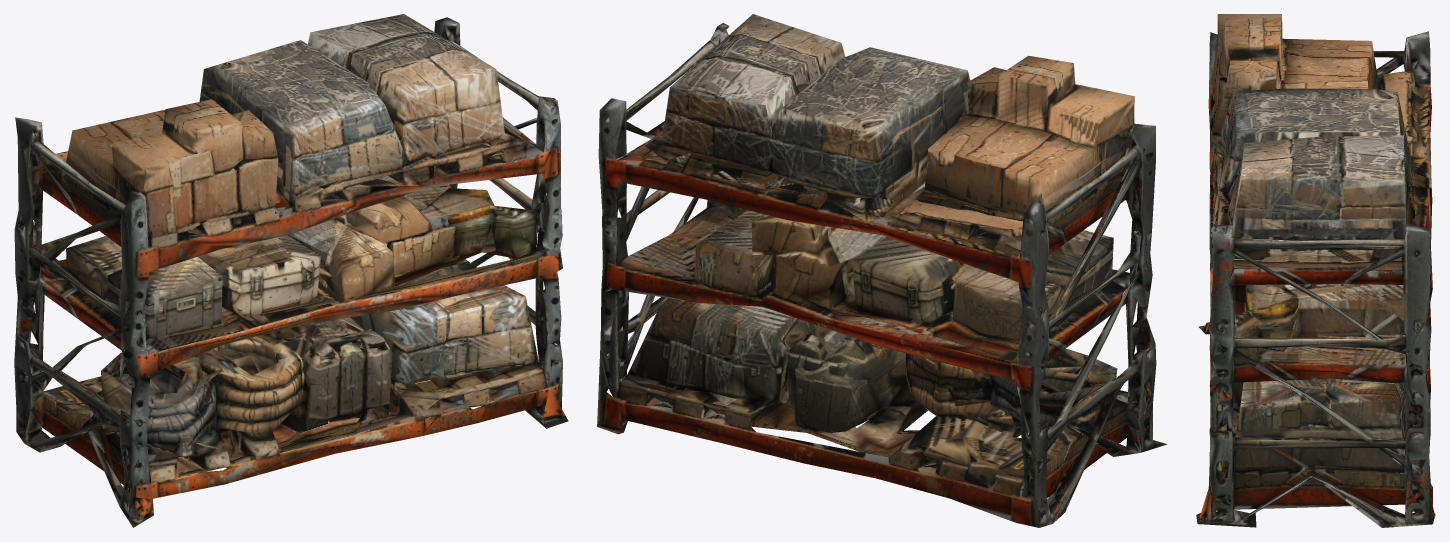
The model's file is EX_Lab_StorageRack.fbx.
3 renders of one model, left to right at view 1: azimuth 30°, elevation 25°; view 2: azimuth 150°, elevation 25°; view 3: azimuth 270°, elevation 25°, orthographic. The views are drawn at different scales.
Visible parts, largest first — view 1: texture_mapping; view 2: texture_mapping; view 3: texture_mapping.
Part boxes in pixels (x1,y1,x2,y2): texture_mapping: (14,14,568,527); texture_mapping: (597,14,1167,527); texture_mapping: (1196,14,1435,527).
Bounding box in the file's own units: 0.9857 × 0.4948 × 0.7854.
Materials: 1 (1 with a texture image).
